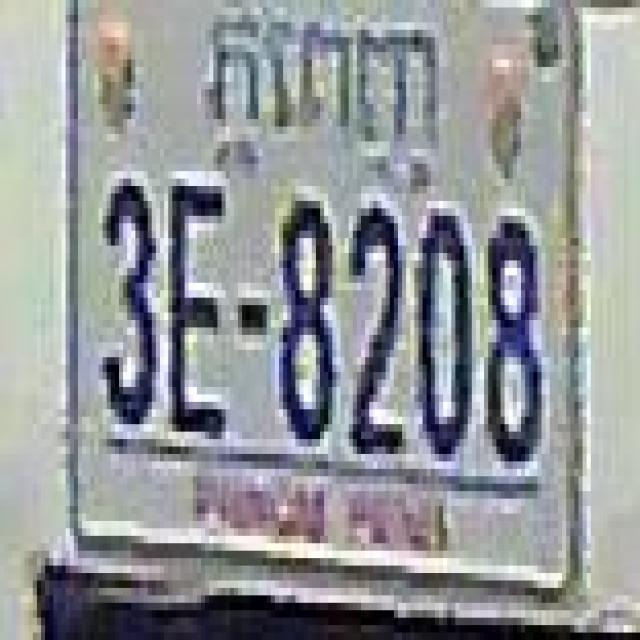Phnom_Penh: (209, 15, 442, 186)
